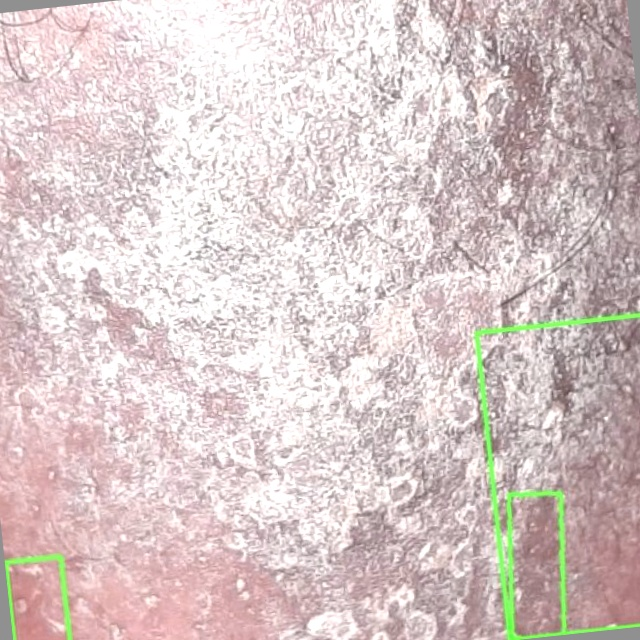Tinea Corporis: (476, 315, 639, 639), (508, 494, 563, 638), (5, 556, 70, 639)
